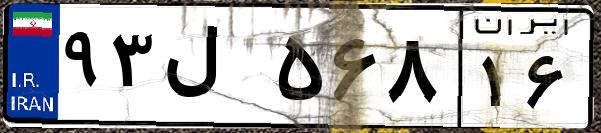1: (475, 38, 525, 113)
3: (110, 28, 158, 98)
5: (270, 28, 330, 110)
6: (330, 28, 385, 110), (525, 38, 570, 115)
8: (385, 28, 445, 110)
9: (57, 26, 110, 100)
ل: (158, 20, 270, 120)
